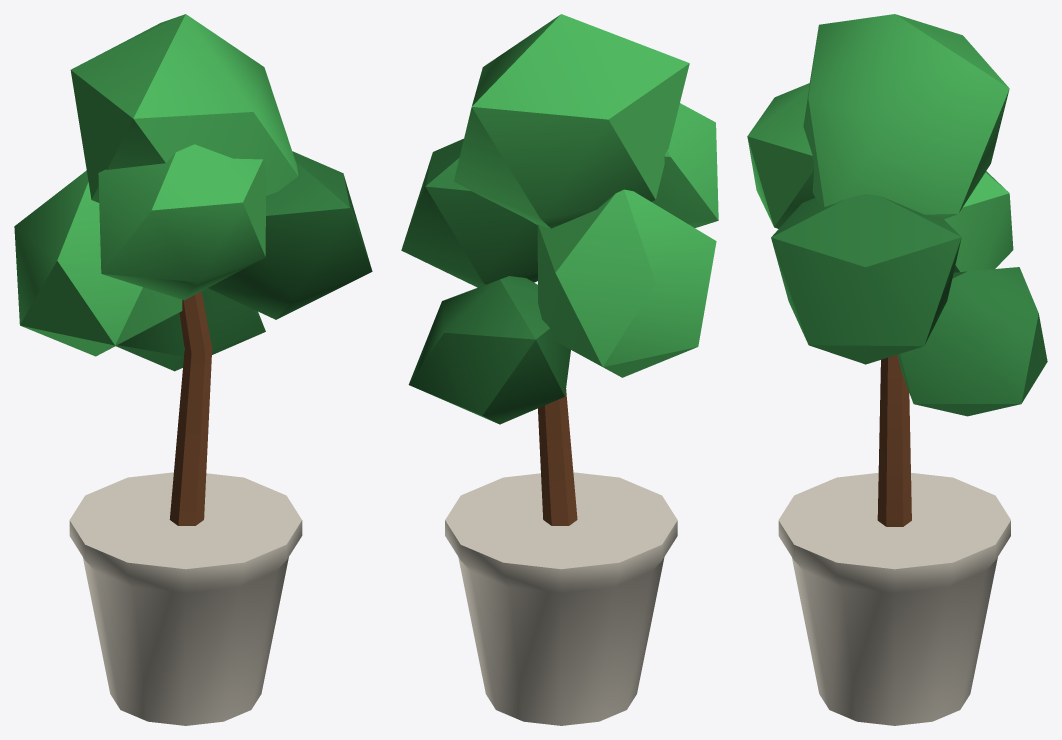
File: ex_plant.glb
The picture shows the model from 3 angles, left to right: view 1: azimuth 30°, elevation 25°; view 2: azimuth 150°, elevation 25°; view 3: azimuth 270°, elevation 25°; orthographic projection.
Visible parts, largest first — view 1: anim_sway_leaves, ex_plant; view 2: anim_sway_leaves, ex_plant; view 3: anim_sway_leaves, ex_plant.
Boxes of the visible parts, x1,y1,x2,y2 form: anim_sway_leaves: [14, 14, 372, 525]; ex_plant: [69, 472, 302, 725]; anim_sway_leaves: [401, 14, 718, 525]; ex_plant: [445, 472, 677, 725]; anim_sway_leaves: [747, 14, 1047, 526]; ex_plant: [778, 473, 1010, 725].
Bounding box in the file's own units: 1.18 × 2.58 × 1.03.
1 material, 1 textured.
